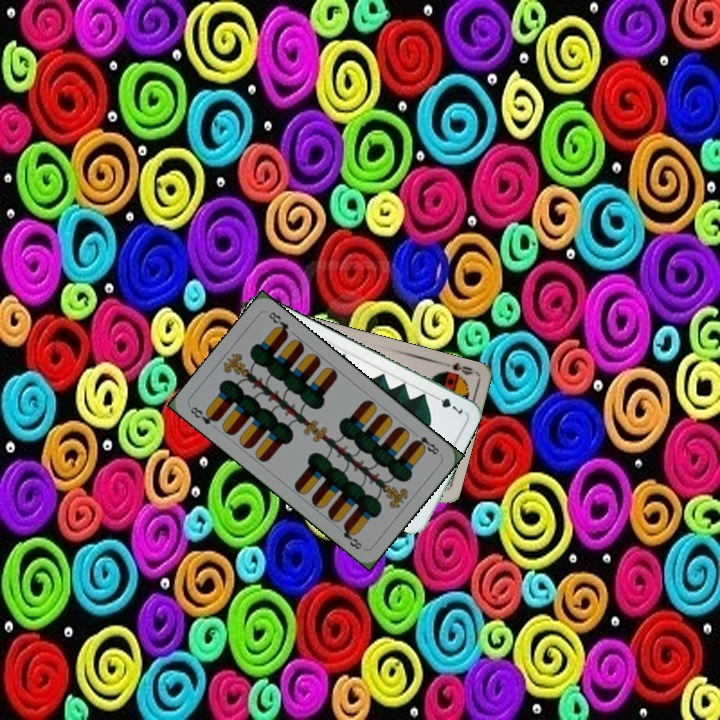E8: (409, 427, 443, 458), (186, 402, 221, 427)
G7: (429, 391, 466, 418)
SO: (434, 358, 475, 381)
